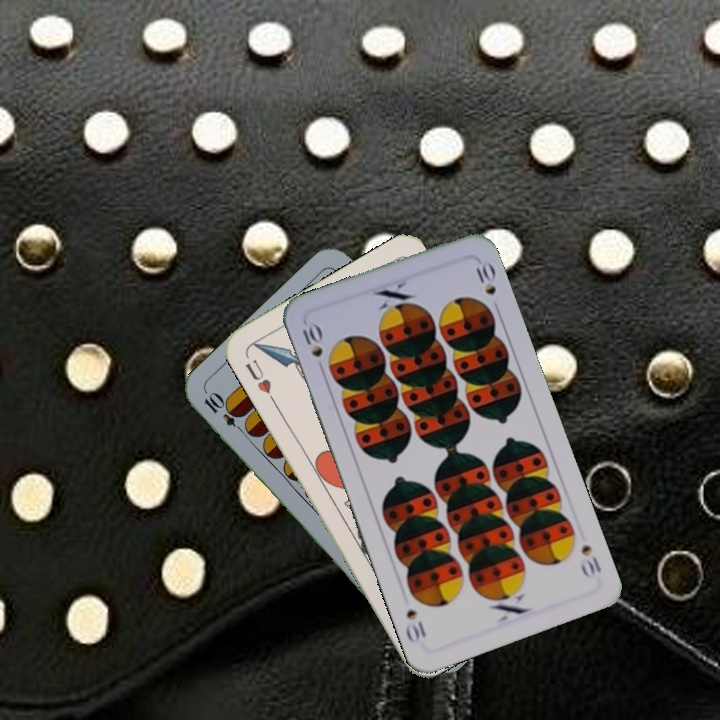E10: (200, 389, 250, 437)
HU: (241, 355, 278, 405)
S10: (298, 318, 326, 360), (577, 540, 604, 581)
